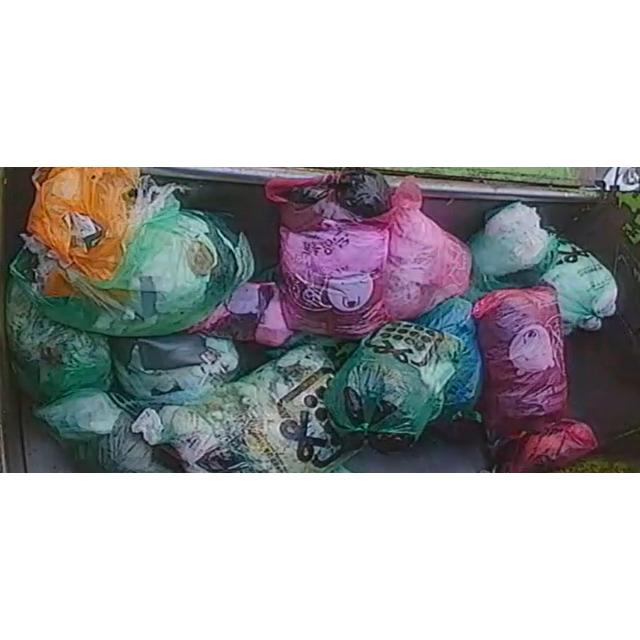general_trashbag: (11, 167, 254, 337), (132, 344, 346, 473), (325, 322, 460, 440), (6, 277, 111, 402), (34, 390, 182, 473), (110, 333, 239, 404), (466, 202, 556, 301), (541, 237, 618, 332)
other_trashbag: (269, 170, 392, 338), (472, 287, 568, 438), (384, 177, 471, 319), (191, 282, 292, 347), (498, 420, 598, 473)
